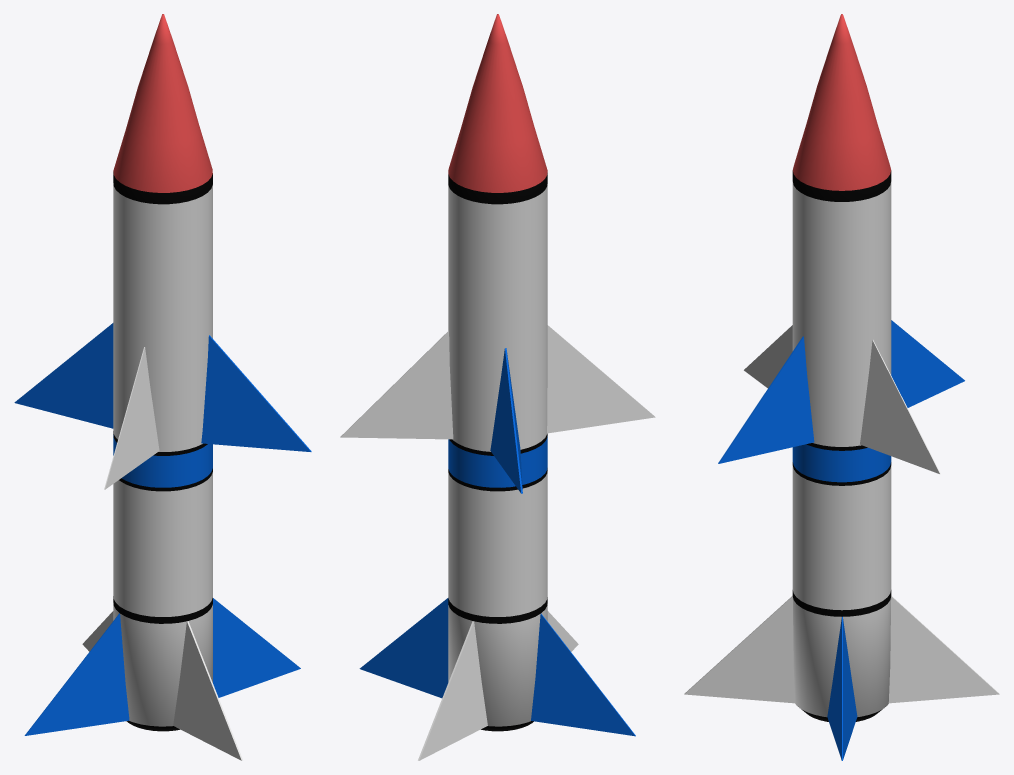
Rendered from missile_final 1.fbx.
3 renders of one model, left to right at view 1: azimuth 30°, elevation 25°; view 2: azimuth 150°, elevation 25°; view 3: azimuth 270°, elevation 25°, orthographic.
Parts seen in each view (by area): view 1: Cylinder, Wing2, Wing3, Wing4, Wing1; view 2: Cylinder, Wing1, Wing3, Wing4, Wing2; view 3: Cylinder, Wing4, Wing2, Wing1, Wing3.
Part boxes in pixels (bbox=[...]): Cylinder: bbox=[113, 14, 212, 731]; Wing2: bbox=[14, 323, 311, 451]; Wing3: bbox=[24, 598, 300, 735]; Wing4: bbox=[82, 611, 242, 760]; Wing1: bbox=[104, 347, 159, 489]; Cylinder: bbox=[448, 14, 547, 731]; Wing1: bbox=[340, 325, 655, 439]; Wing3: bbox=[359, 598, 635, 736]; Wing4: bbox=[418, 611, 578, 760]; Wing2: bbox=[490, 348, 522, 493]; Cylinder: bbox=[792, 14, 891, 721]; Wing4: bbox=[684, 596, 999, 703]; Wing2: bbox=[718, 320, 964, 463]; Wing1: bbox=[744, 325, 940, 474]; Wing3: bbox=[827, 616, 857, 760].
Bounding box in the file's own units: 640 × 1550 × 640.
